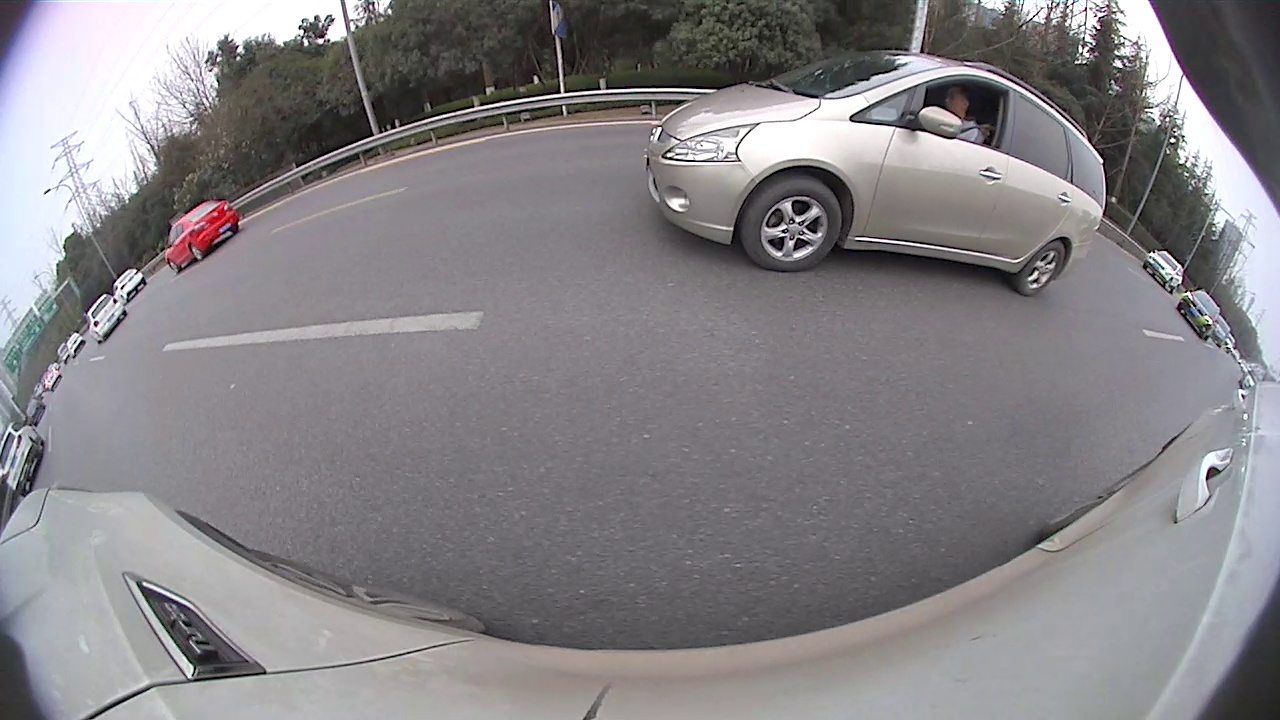car: (645, 47, 1109, 299), (165, 198, 241, 273), (1, 420, 46, 498), (1176, 287, 1222, 342), (84, 291, 129, 345), (1142, 248, 1185, 296), (111, 266, 148, 305), (1204, 313, 1232, 349)
front: (747, 177, 843, 271), (168, 260, 180, 273)
rear: (1020, 241, 1065, 296), (189, 243, 205, 262)
